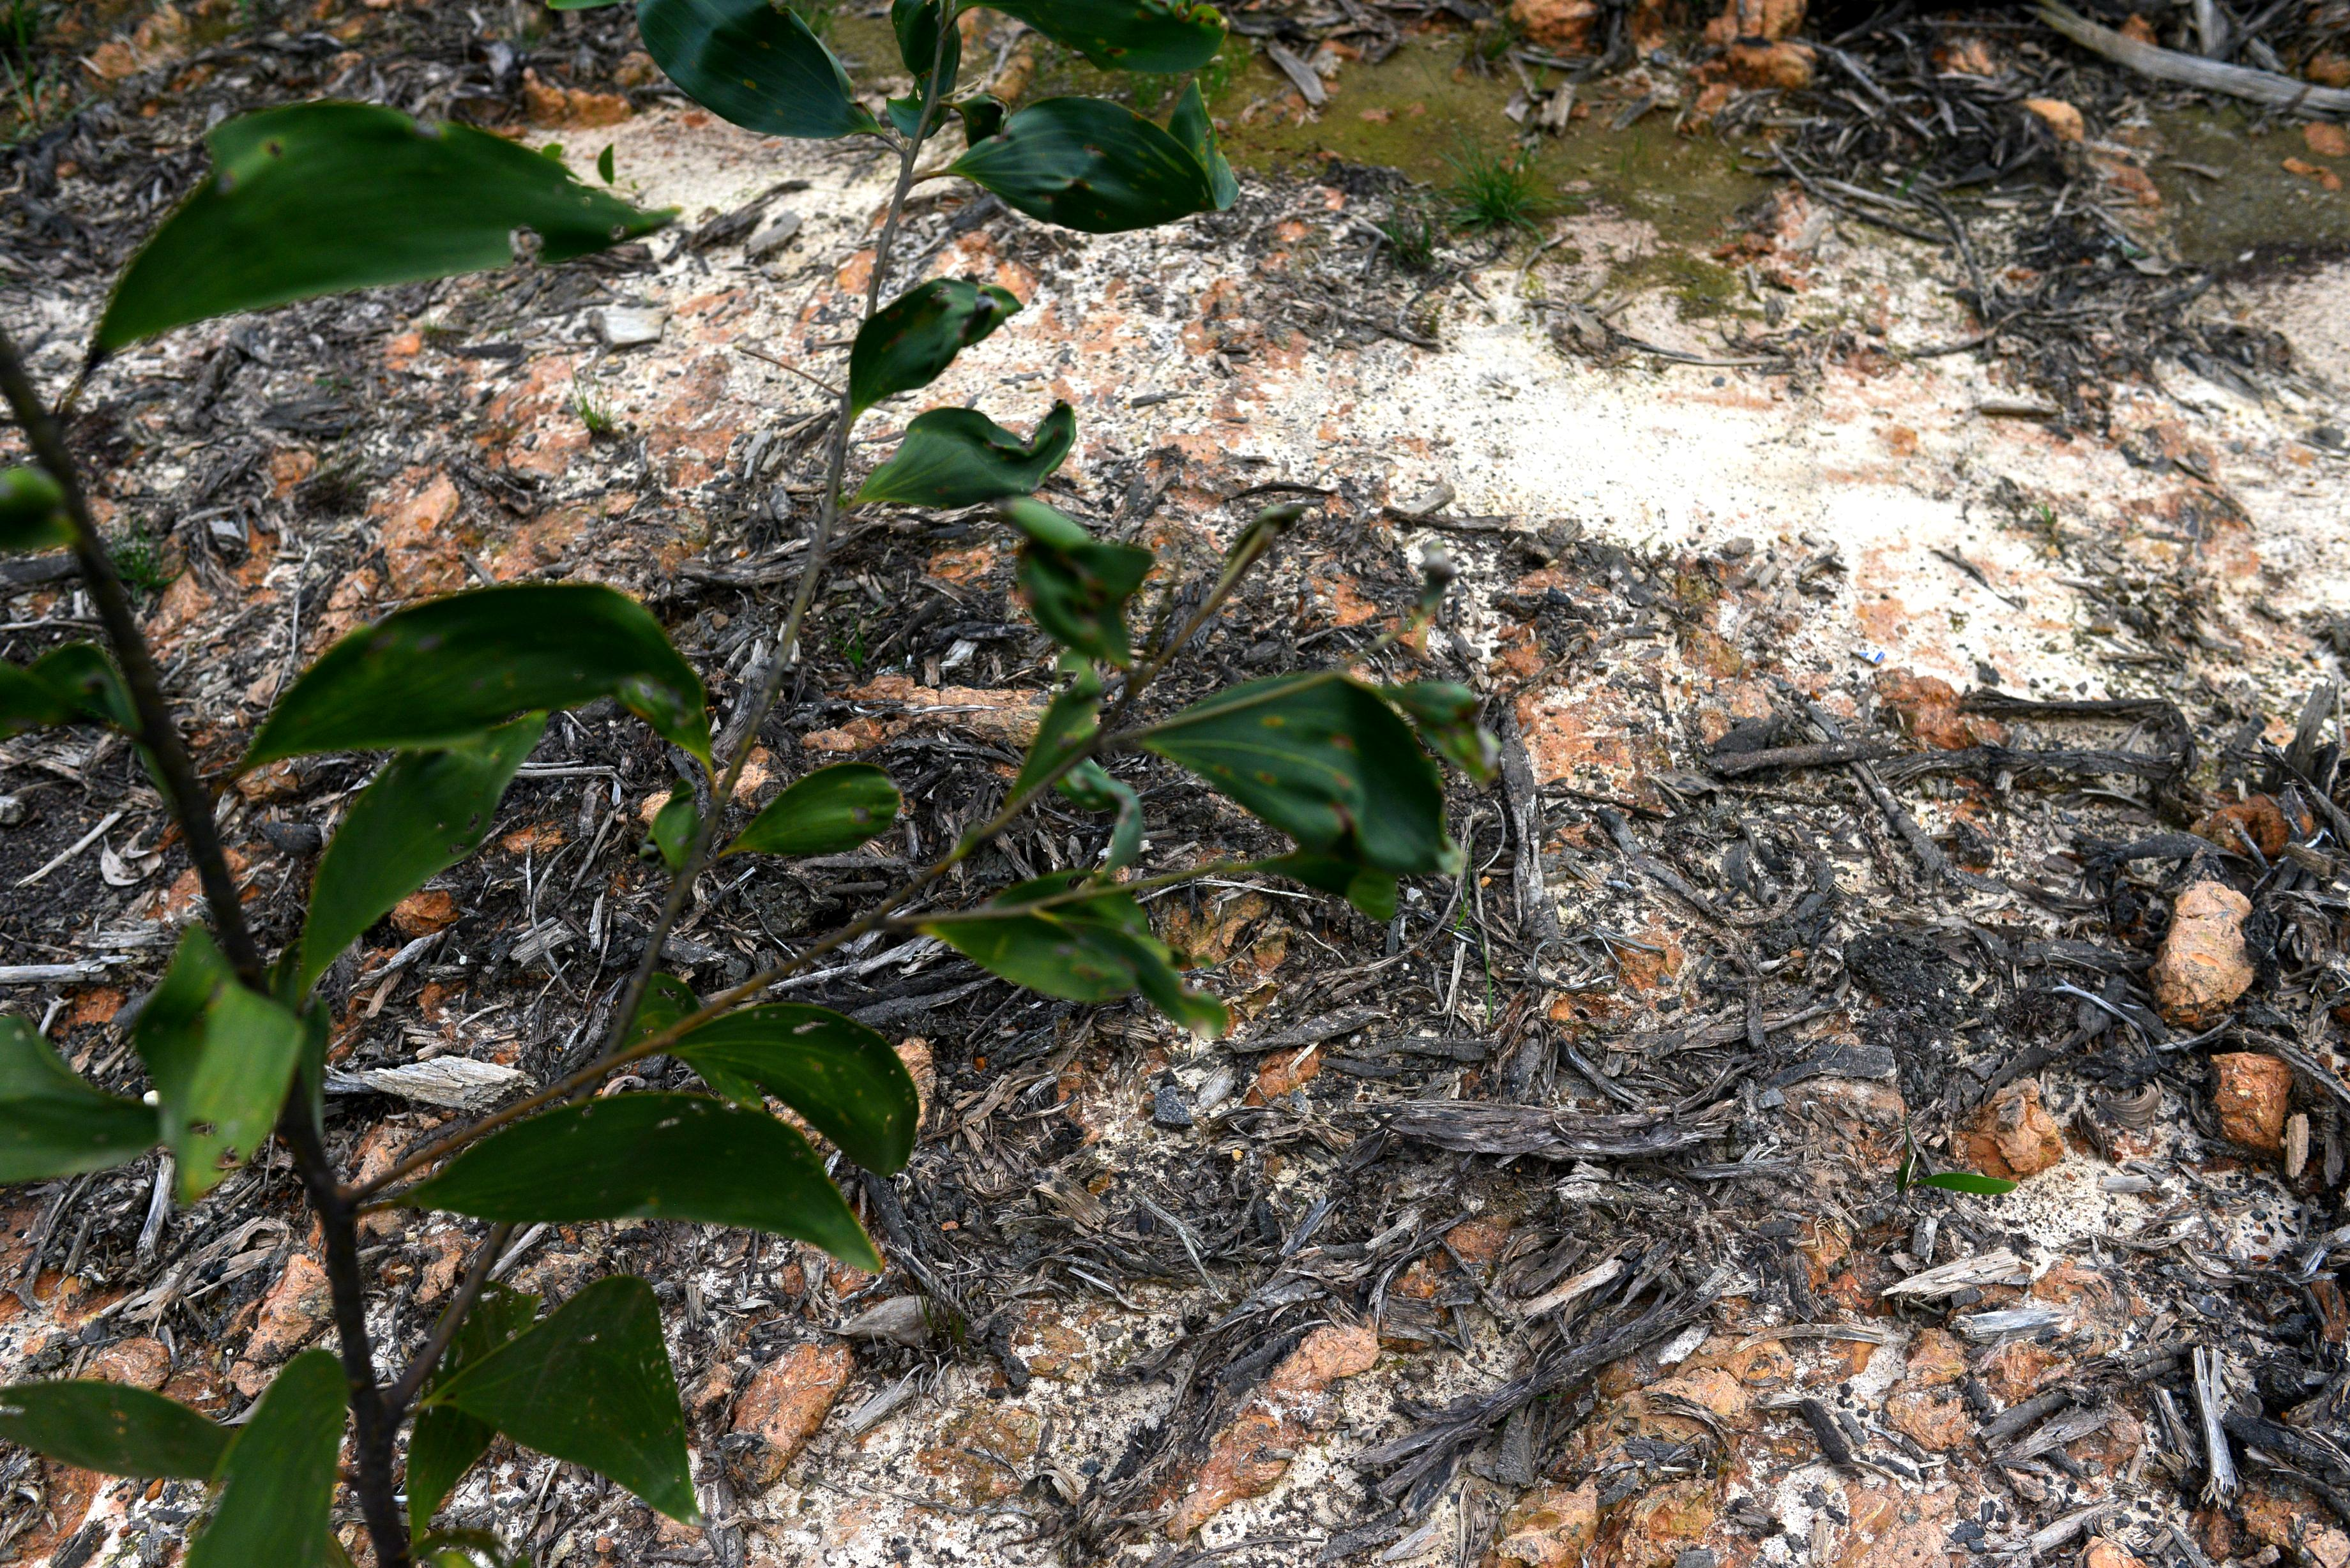Pasalora: (73, 89, 672, 360), (234, 553, 707, 765), (1141, 658, 1498, 896), (409, 1277, 709, 1505), (924, 878, 1242, 1048), (128, 957, 296, 1235), (964, 101, 1239, 240), (854, 397, 1085, 506), (828, 252, 996, 388), (982, 520, 1130, 674), (735, 763, 908, 878)
